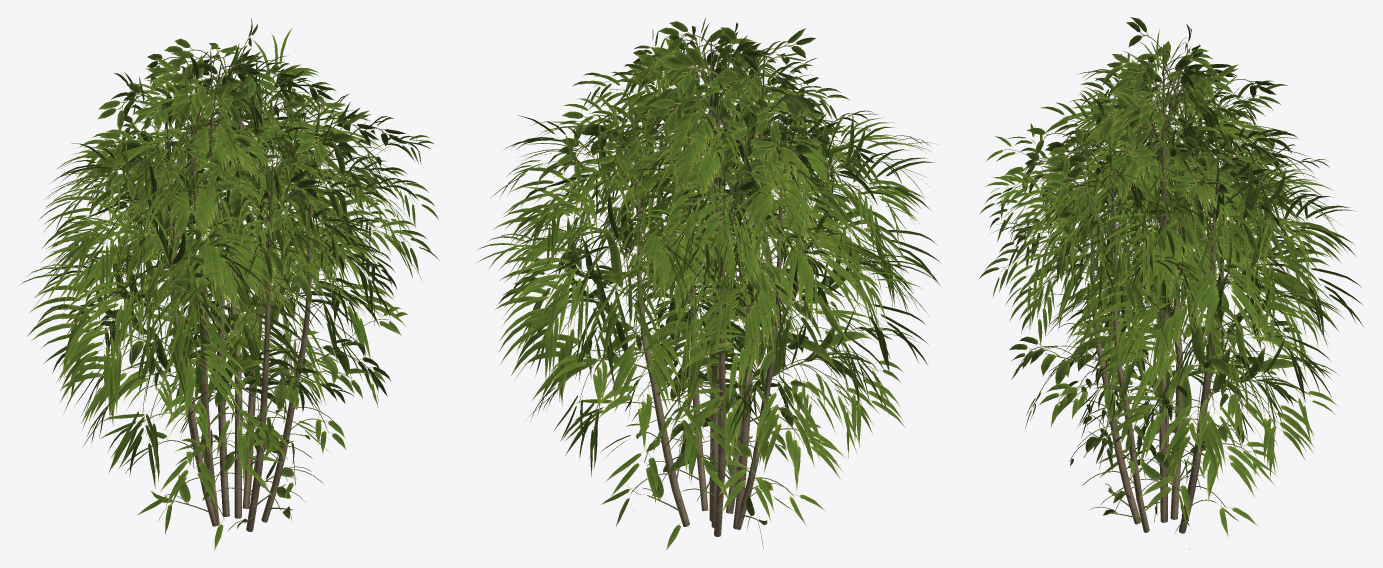
3 views of the same model, side by side, from view 1: azimuth 30°, elevation 25°; view 2: azimuth 150°, elevation 25°; view 3: azimuth 270°, elevation 25° (orthographic). The views are drawn at different scales.
Parts seen in each view (by area): view 1: Leaf01_2_3, Leaf02_2_4, Leaf03_2_5, Branch01_2_2, Bark01_2_1; view 2: Leaf01_2_3, Leaf02_2_4, Leaf03_2_5, Branch01_2_2, Bark01_2_1; view 3: Leaf01_2_3, Leaf02_2_4, Leaf03_2_5, Branch01_2_2, Bark01_2_1.
Part boxes in pixels (left/top/right/bottom): Leaf01_2_3: left=18, top=27, right=439, bottom=550; Leaf02_2_4: left=66, top=18, right=406, bottom=415; Leaf03_2_5: left=95, top=62, right=375, bottom=528; Branch01_2_2: left=70, top=38, right=414, bottom=531; Bark01_2_1: left=167, top=115, right=314, bottom=531; Leaf01_2_3: left=476, top=18, right=940, bottom=550; Leaf02_2_4: left=536, top=21, right=893, bottom=414; Leaf03_2_5: left=565, top=67, right=866, bottom=524; Branch01_2_2: left=534, top=34, right=897, bottom=549; Bark01_2_1: left=635, top=105, right=783, bottom=536; Leaf01_2_3: left=978, top=28, right=1363, bottom=537; Leaf02_2_4: left=1004, top=17, right=1317, bottom=417; Leaf03_2_5: left=1028, top=85, right=1287, bottom=529; Branch01_2_2: left=998, top=34, right=1318, bottom=548; Bark01_2_1: left=1089, top=110, right=1223, bottom=533.
Size of the model in its own units: 2.16 by 2.62 by 1.95.
Materials: 5 (5 with a texture image).
